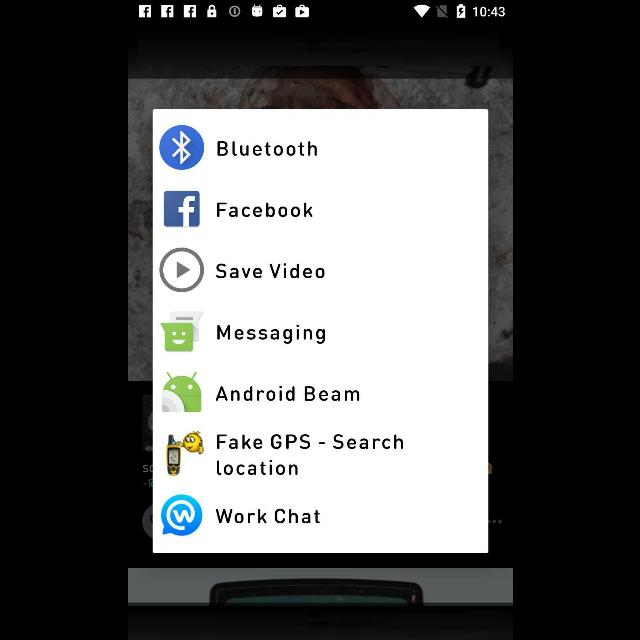icon: (158, 248, 204, 292), (158, 126, 204, 170), (163, 191, 199, 227)
image: (164, 431, 203, 477), (160, 494, 202, 536), (160, 310, 202, 352), (161, 372, 201, 412)
panel: (152, 109, 488, 553)
text: (216, 434, 402, 476), (215, 386, 359, 402), (216, 326, 324, 344), (216, 263, 324, 279), (215, 508, 319, 524), (216, 202, 312, 218), (216, 142, 316, 156)
uppertaskbar: (128, 1, 512, 23)
